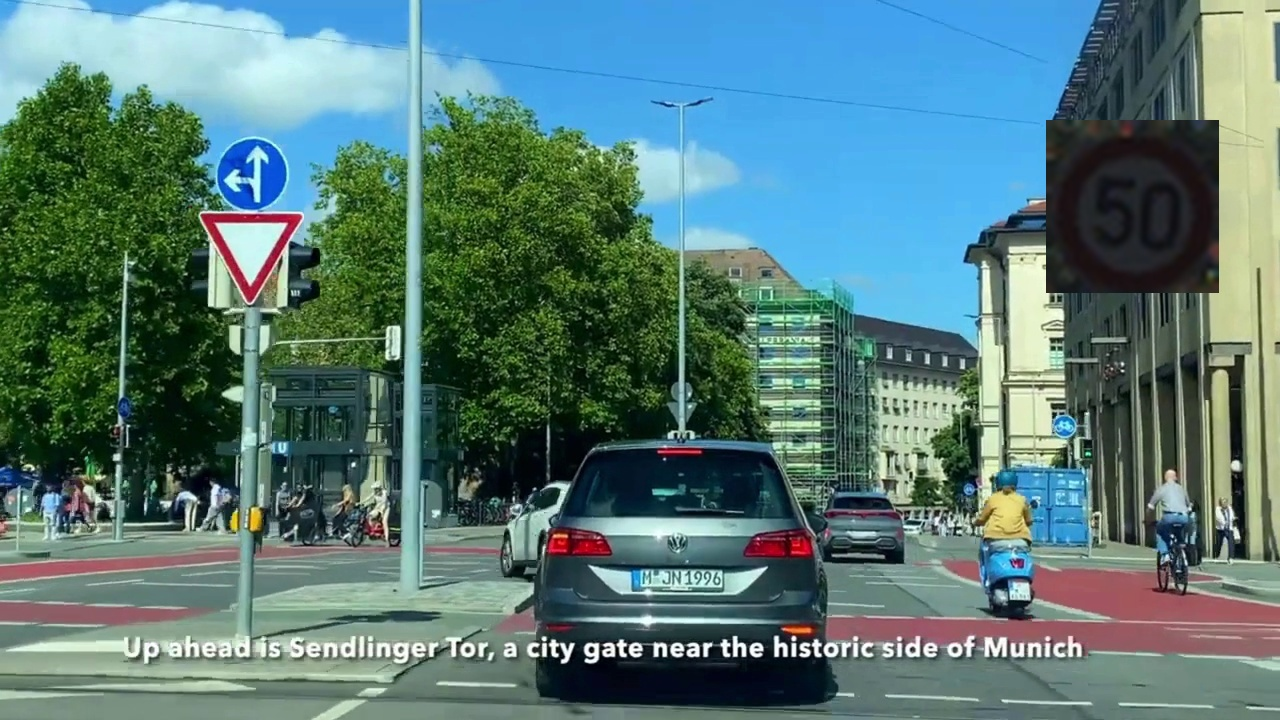Speed 50: (1046, 120, 1219, 293)
